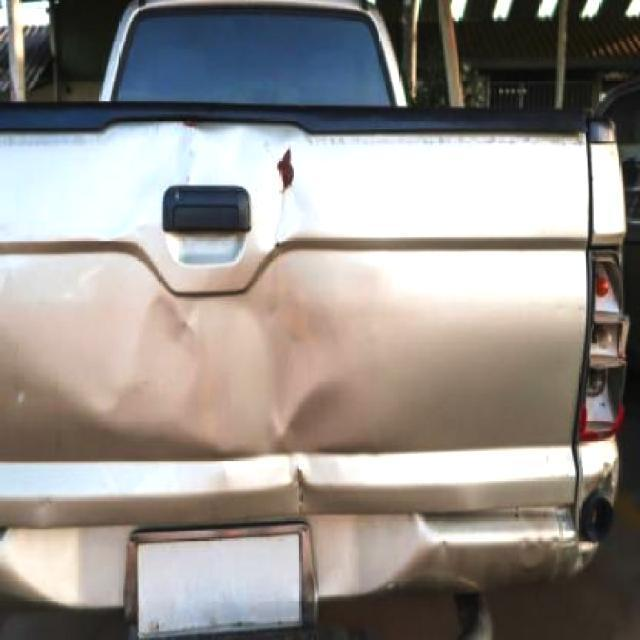minor: (275, 154, 368, 242), (282, 372, 368, 454)
moderate: (62, 248, 368, 451), (286, 468, 317, 518)
